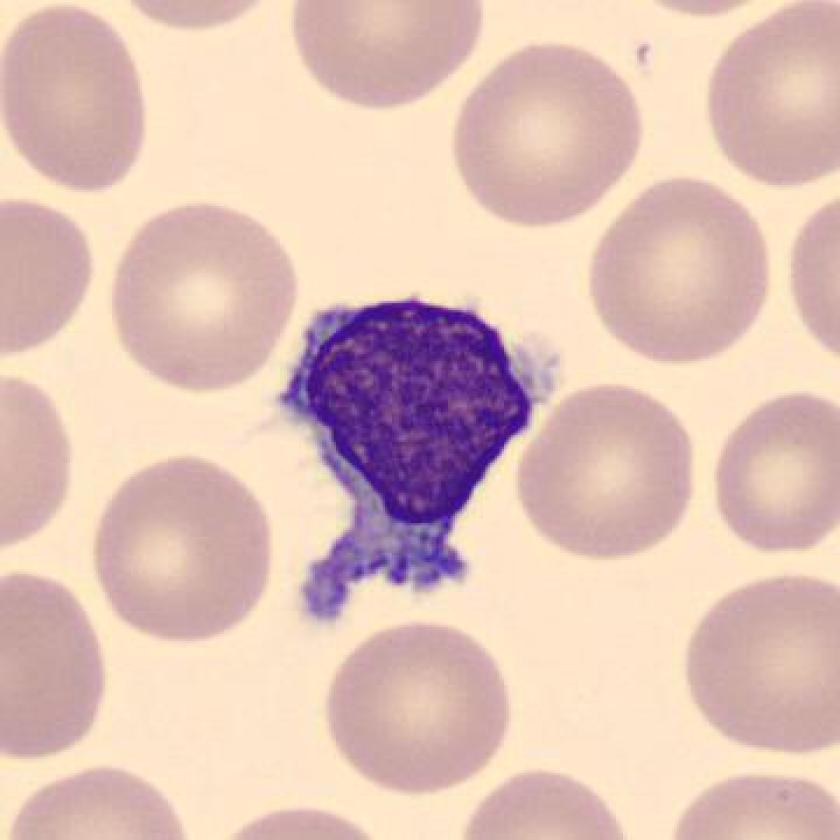lymphocyte: (265, 277, 570, 638)
